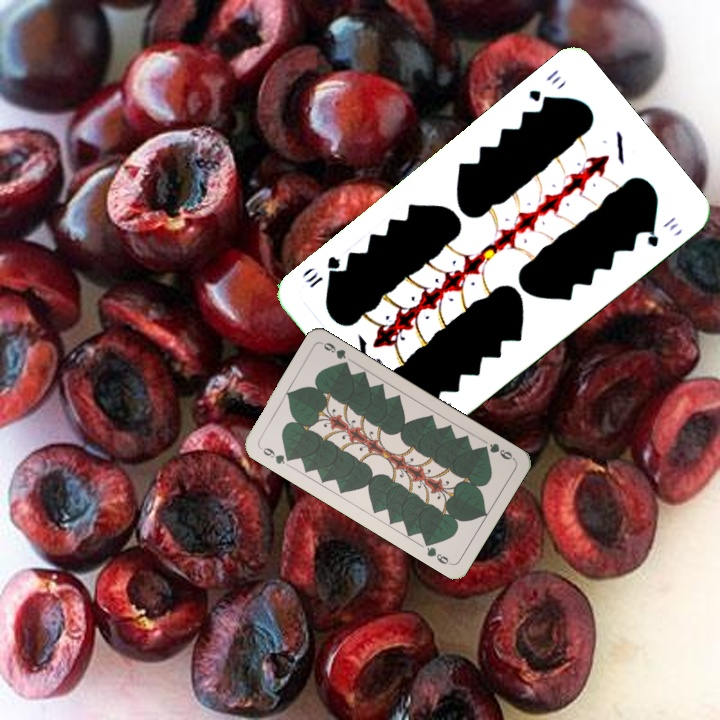G10: (524, 66, 564, 109)
G9: (477, 439, 517, 463), (255, 443, 295, 467)
